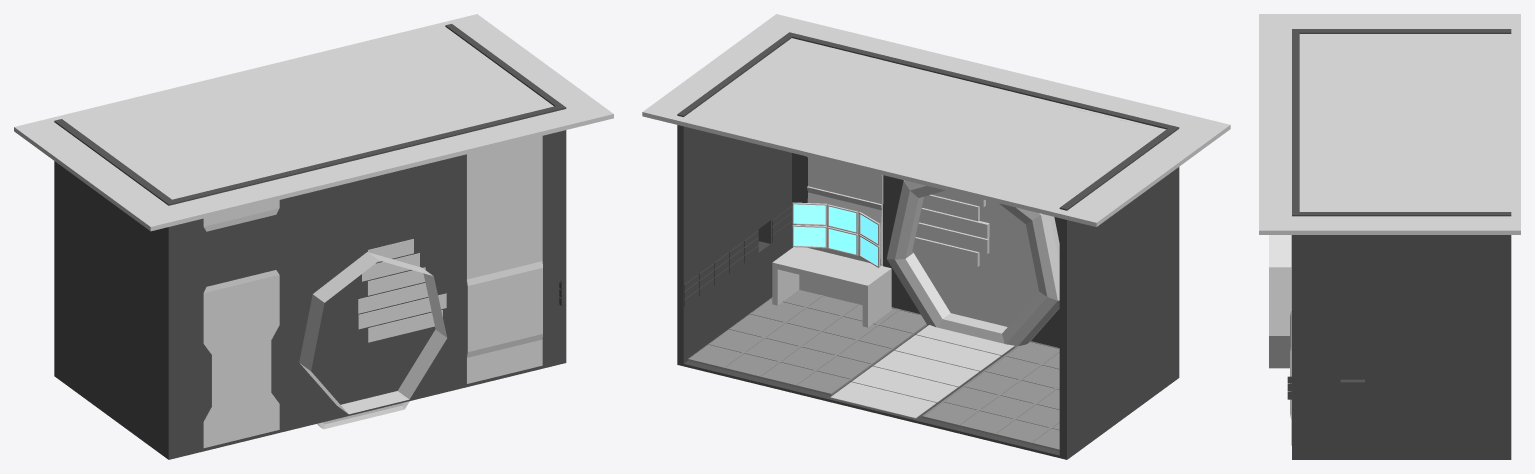
File: maproom.fbx
The picture shows the model from 3 angles, left to right: view 1: azimuth 30°, elevation 25°; view 2: azimuth 150°, elevation 25°; view 3: azimuth 270°, elevation 25°; orthographic projection. The views are drawn at different scales.
Visible parts, largest first — view 1: Cube, Cube.042, Cube.001, Cube.039, Cube.006, Cube.011, Cube.010, Cube.012, Cube.009, Cube.007, Cube.002; view 2: Cube.042, Cube, Cube.014, Cube.002, Cube.023, Cube.006, Cube.038, Cube.001, Cube.044, Cube.011, Cube.010, Cube.012 (+1 smaller); view 3: Cube.042, Cube, Cube.006, Cube.001.
Part boxes in pixels (<box>): Cube: <box>54,24,566,459</box>; Cube.042: <box>14,14,613,231</box>; Cube.001: <box>202,110,542,383</box>; Cube.039: <box>203,200,279,448</box>; Cube.006: <box>299,252,447,414</box>; Cube.011: <box>358,293,446,329</box>; Cube.010: <box>358,283,428,313</box>; Cube.012: <box>368,310,442,342</box>; Cube.009: <box>367,267,425,295</box>; Cube.007: <box>362,253,419,281</box>; Cube.002: <box>317,401,409,429</box>; Cube.042: <box>642,14,1230,226</box>; Cube: <box>677,32,1179,459</box>; Cube.014: <box>688,290,1059,451</box>; Cube.002: <box>886,180,1059,347</box>; Cube.023: <box>830,325,1014,418</box>; Cube.006: <box>913,200,1038,326</box>; Cube.038: <box>772,247,891,327</box>; Cube.001: <box>807,42,1135,265</box>; Cube.044: <box>792,202,880,267</box>; Cube.011: <box>915,222,989,253</box>; Cube.010: <box>918,208,989,238</box>; Cube.012: <box>912,237,979,266</box>; Cube.042: <box>1259,14,1520,234</box>; Cube: <box>1287,29,1511,459</box>; Cube.006: <box>1269,235,1291,368</box>; Cube.001: <box>1290,49,1303,445</box>.
Size of the model in its own units: 20.16 by 11.06 by 10.3.
